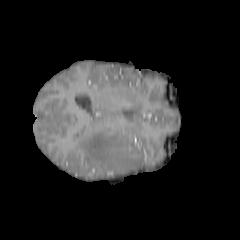glioma: (74, 128, 144, 176)
